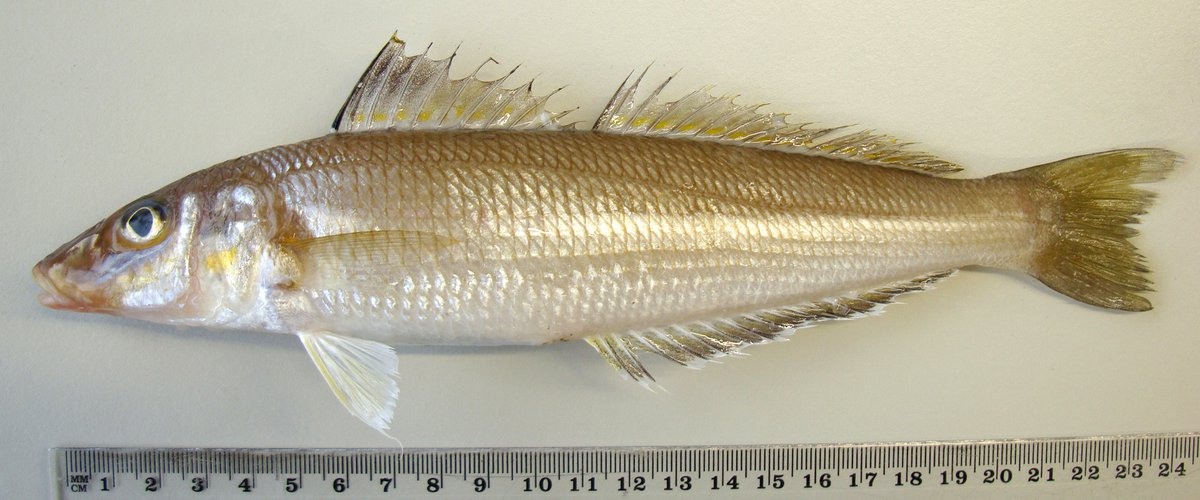kiss: (37, 39, 1171, 410)
